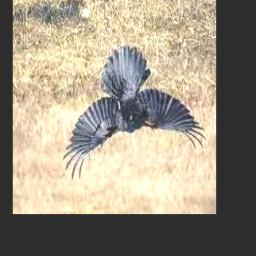Crow: (61, 47, 206, 181)
